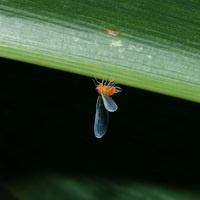insect: (93, 78, 121, 137)
